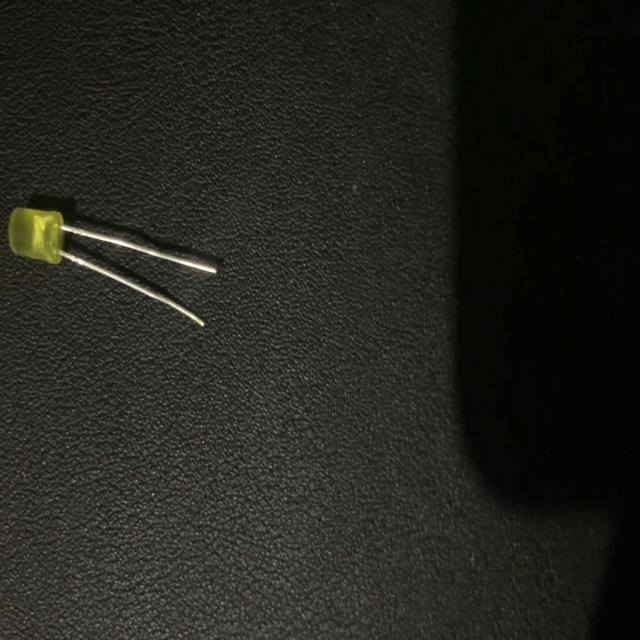LED: (6, 203, 218, 330)
